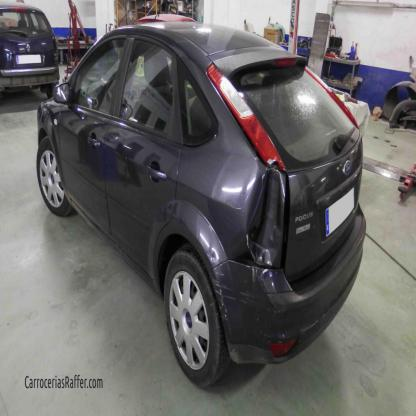door: (59, 106, 182, 280)
headlamp: (206, 63, 286, 170), (306, 66, 357, 130)
rear_bumper: (210, 204, 367, 364)
